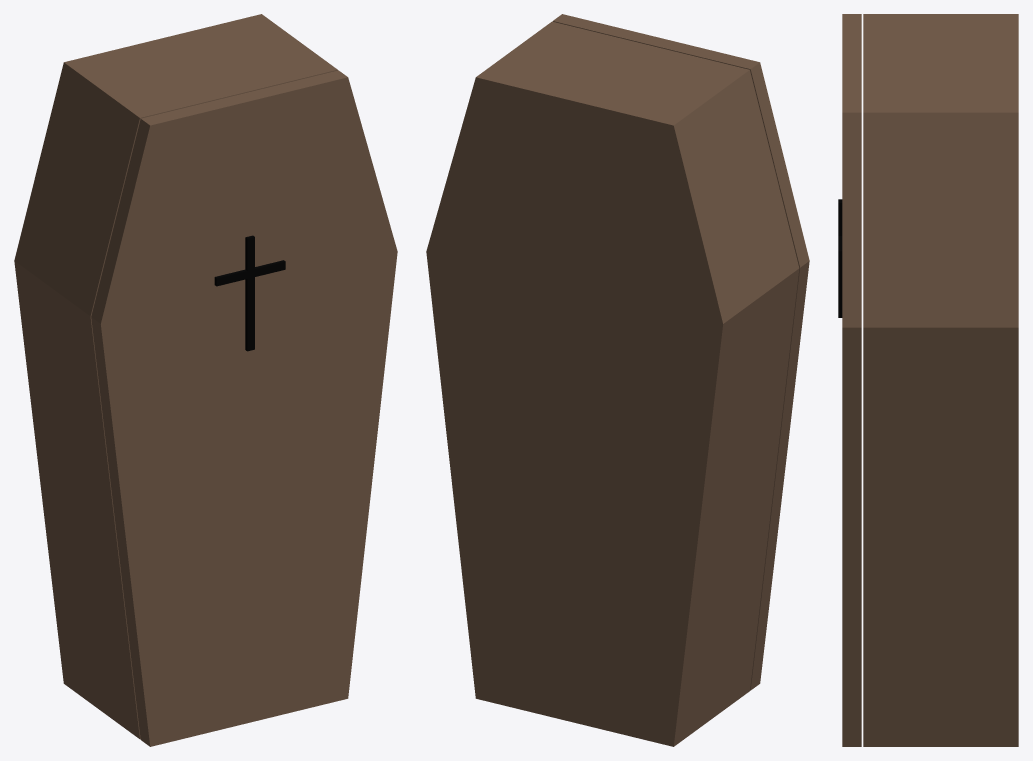
File: COFFIN.fbx
The picture shows the model from 3 angles, left to right: view 1: azimuth 30°, elevation 25°; view 2: azimuth 150°, elevation 25°; view 3: azimuth 270°, elevation 25°; orthographic projection. The views are drawn at different scales.
Visible parts, largest first — view 1: kapak, Cube, hac; view 2: Cube, kapak; view 3: Cube, kapak, hac.
Part boxes in pixels (bbox=[...]): kapak: bbox=[91, 70, 397, 746]; Cube: bbox=[14, 14, 337, 739]; hac: bbox=[214, 235, 285, 351]; Cube: bbox=[426, 21, 799, 746]; kapak: bbox=[552, 14, 809, 690]; Cube: bbox=[863, 14, 1018, 746]; kapak: bbox=[842, 14, 861, 746]; hac: bbox=[838, 199, 842, 317].
Bounding box in the file's own units: 90 × 180 × 46.43.
